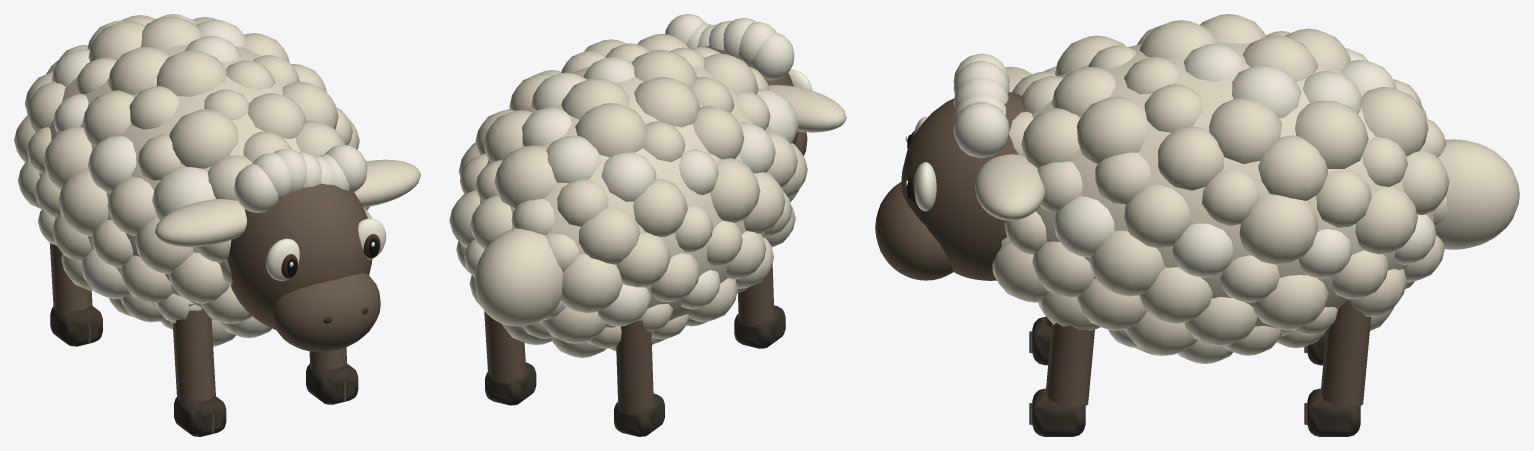
The model's file is sheep.glb.
The picture shows the model from 3 angles, left to right: view 1: azimuth 30°, elevation 25°; view 2: azimuth 150°, elevation 25°; view 3: azimuth 270°, elevation 25°; orthographic projection. The views are drawn at different scales.
Parts seen in each view (by area): view 1: sheep_Wool_cream, sheep_head_Sheep_face, sheep_Wool_highlight, sheep_Sheep_face, sheep_head_Wool_cream, sheep_head_Wool_highlight, sheep_Sheep_hoof, sheep_head_Eyes_ivory, sheep_head_Eyes_umber; view 2: sheep_Wool_cream, sheep_Wool_highlight, sheep_Sheep_face, sheep_head_Wool_highlight, sheep_Sheep_hoof, sheep_head_Wool_cream, sheep_head_Sheep_face; view 3: sheep_Wool_cream, sheep_Wool_highlight, sheep_head_Sheep_face, sheep_Sheep_face, sheep_head_Wool_highlight, sheep_Sheep_hoof, sheep_head_Wool_cream, sheep_head_Eyes_ivory.
Part boxes in pixels (<box>): sheep_Wool_cream: <box>14,15,372,346</box>; sheep_head_Sheep_face: <box>227,183,380,351</box>; sheep_Wool_highlight: <box>38,14,366,338</box>; sheep_Sheep_face: <box>49,243,346,432</box>; sheep_head_Wool_cream: <box>155,159,420,247</box>; sheep_head_Wool_highlight: <box>234,144,367,212</box>; sheep_Sheep_hoof: <box>50,306,358,436</box>; sheep_head_Eyes_ivory: <box>266,218,386,280</box>; sheep_head_Eyes_umber: <box>281,234,380,278</box>; sheep_Wool_cream: <box>449,34,807,357</box>; sheep_Wool_highlight: <box>464,57,798,326</box>; sheep_Sheep_face: <box>484,264,774,414</box>; sheep_head_Wool_highlight: <box>665,14,794,80</box>; sheep_Sheep_hoof: <box>485,305,785,436</box>; sheep_head_Wool_cream: <box>768,85,846,132</box>; sheep_head_Sheep_face: <box>703,46,807,155</box>; sheep_Wool_cream: <box>992,14,1519,355</box>; sheep_Wool_highlight: <box>1038,43,1436,363</box>; sheep_head_Sheep_face: <box>875,92,1026,280</box>; sheep_Sheep_face: <box>1029,300,1371,424</box>; sheep_head_Wool_highlight: <box>953,53,1009,157</box>; sheep_Sheep_hoof: <box>1032,316,1360,436</box>; sheep_head_Wool_cream: <box>975,66,1044,220</box>; sheep_head_Eyes_ivory: <box>905,117,936,211</box>.
Bounding box in the file's own units: 0.7185 × 0.7813 × 1.27.
